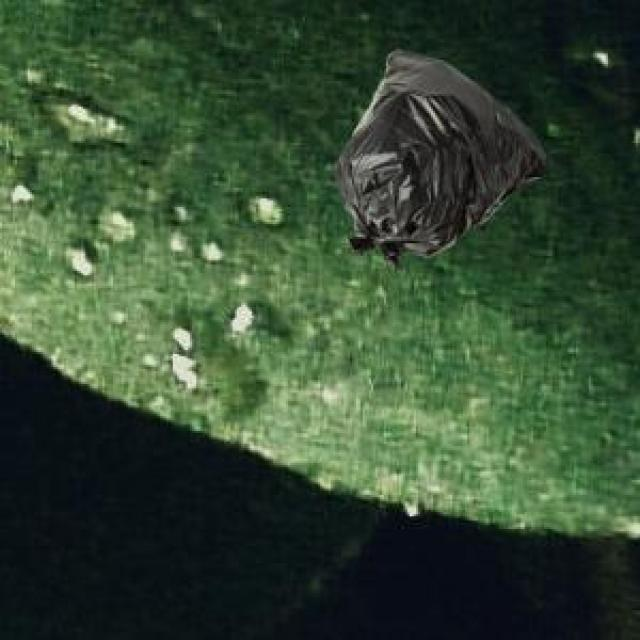waste: (338, 51, 546, 259)
